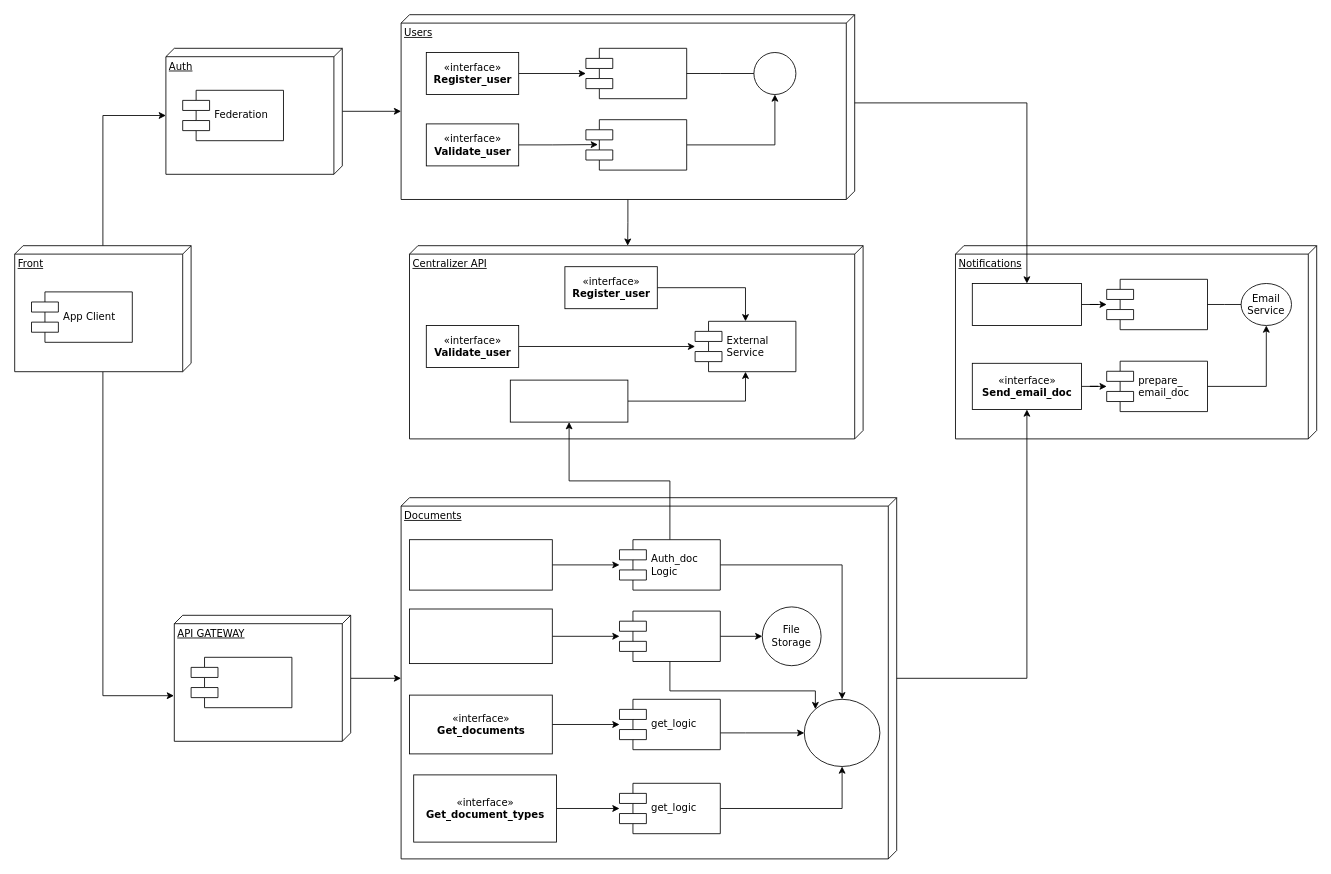
The diagram is 1331 pixels wide and 874 high, and some of its shapes have lost their labels. The box of each missing label's shape, as (x1, y1, x2, y2) in pixels:
API Rest: (190, 656, 292, 708)
DB Documents: (803, 698, 880, 766)
DB Users: (753, 52, 796, 94)
prepare_ user_email: (1106, 278, 1208, 330)
Register_ user_logic: (585, 47, 687, 99)
upload_doc Logic: (619, 610, 720, 662)
Validate_ user_logic: (585, 119, 687, 170)
«interface» Auth_doc: (409, 539, 552, 590)
«interface» Authenticate_doc: (509, 379, 628, 422)
«interface» send_user_email: (971, 283, 1082, 326)
«interface» Upload_doc: (409, 608, 552, 664)
